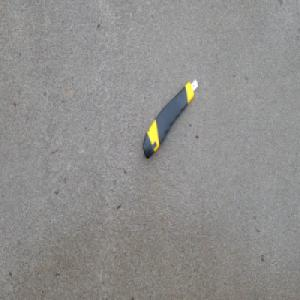Cutter: (142, 75, 199, 159)
